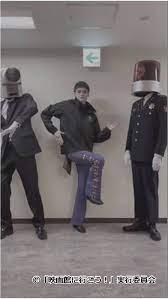no more kid: (0, 63, 27, 99)
